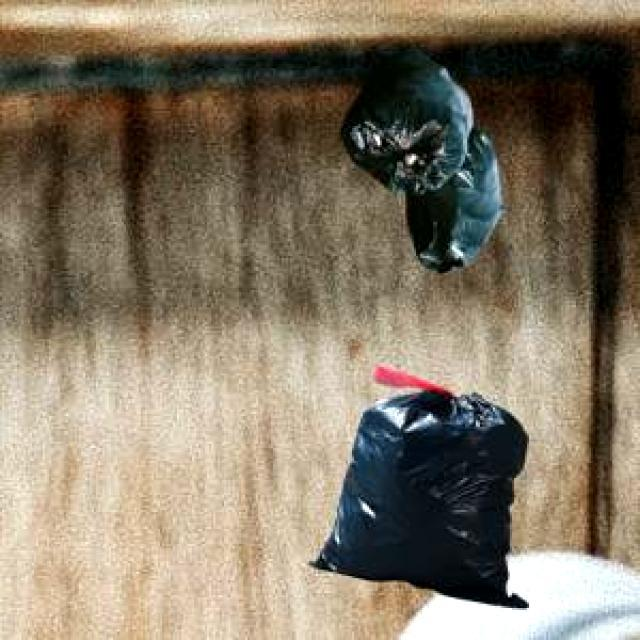Garbage_Bag: (306, 364, 526, 605), (338, 44, 500, 270)
